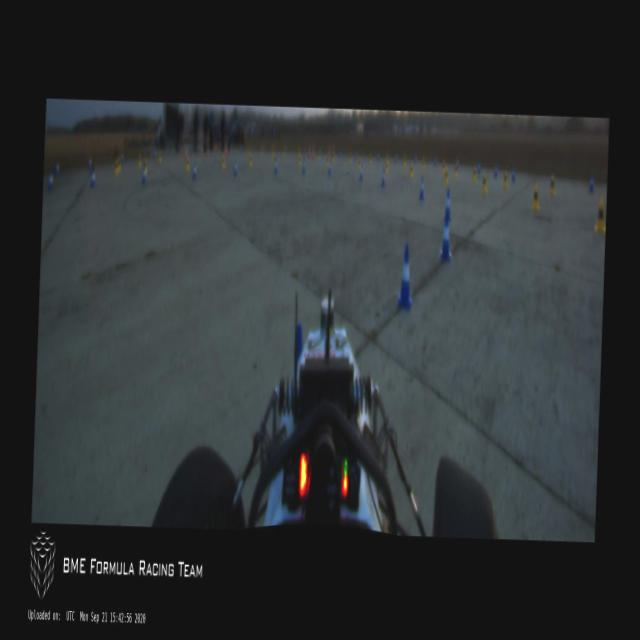blue_cone: (396, 243, 414, 310), (438, 215, 454, 259), (443, 188, 452, 222), (418, 176, 425, 200), (588, 177, 594, 194), (90, 170, 96, 186), (381, 168, 386, 187), (301, 156, 306, 175), (510, 167, 516, 182), (493, 162, 498, 178), (192, 162, 196, 181), (54, 161, 59, 176), (393, 150, 398, 163), (358, 166, 362, 182), (328, 160, 332, 176), (234, 160, 238, 176), (48, 173, 52, 189), (476, 162, 481, 174), (274, 159, 278, 174), (142, 170, 146, 183), (412, 151, 416, 163), (376, 148, 379, 162), (88, 157, 91, 170), (120, 151, 123, 164), (153, 148, 156, 161), (433, 154, 436, 166)
large_orange_cone: (307, 142, 311, 158), (327, 143, 331, 159), (311, 142, 314, 158), (332, 144, 334, 160)
yellow_cone: (594, 197, 606, 231), (531, 184, 540, 212), (549, 176, 556, 195), (482, 170, 488, 192), (502, 170, 508, 189), (409, 160, 414, 178), (444, 166, 448, 186), (472, 164, 476, 182), (454, 161, 458, 177), (384, 158, 388, 174), (114, 158, 118, 174), (138, 152, 142, 168), (221, 154, 225, 169), (248, 154, 252, 168), (185, 158, 189, 172), (143, 160, 147, 174), (442, 159, 446, 172), (358, 158, 362, 171), (402, 156, 406, 168), (368, 152, 372, 164), (158, 150, 161, 163), (348, 154, 351, 164), (118, 158, 120, 171), (422, 157, 424, 170), (298, 157, 300, 166)
